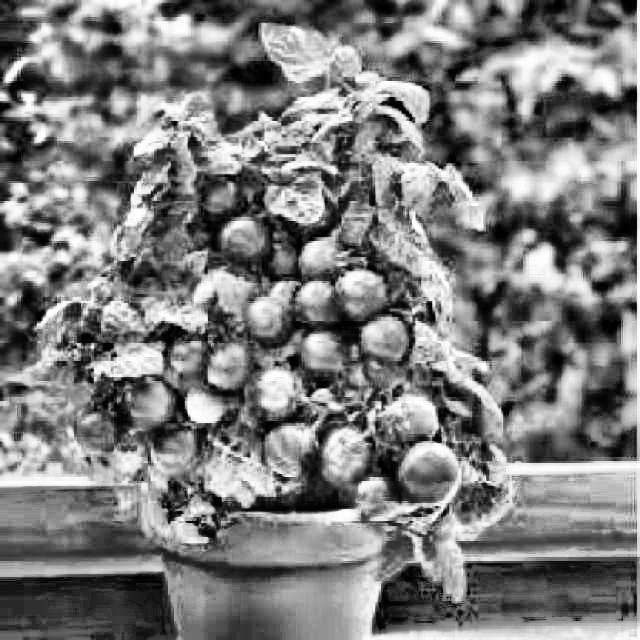plants: (40, 12, 512, 638)
